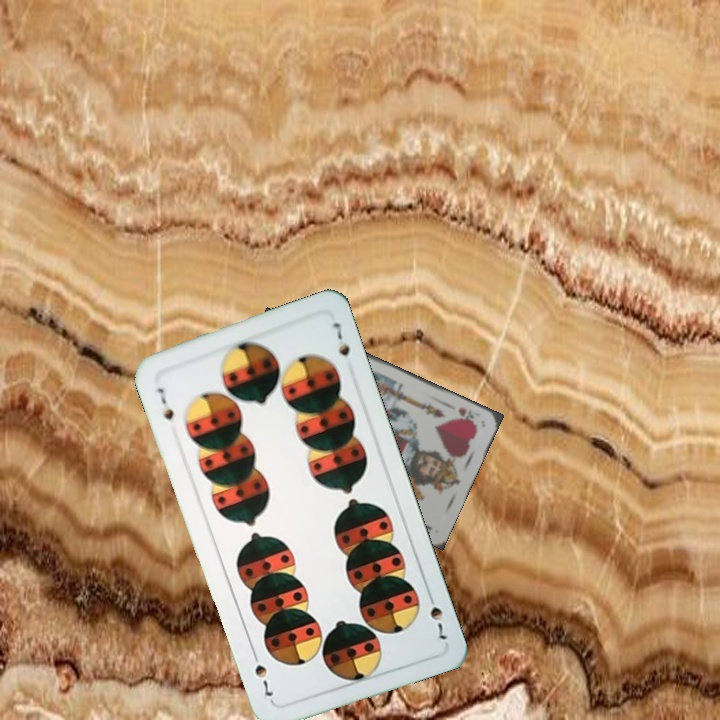HK: (454, 403, 480, 428)
S7: (423, 587, 450, 643), (153, 383, 177, 423)
